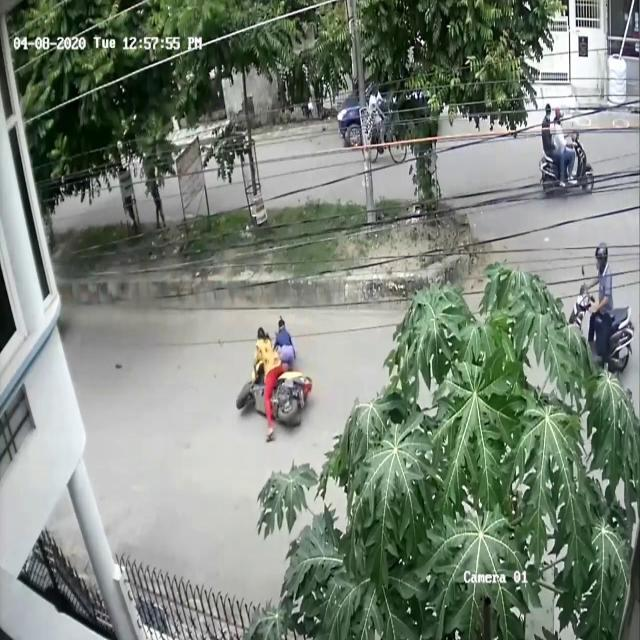accident: (228, 307, 318, 454)
